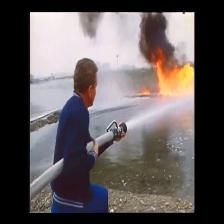fire: (154, 67, 195, 96)
smoke: (141, 14, 166, 58)
